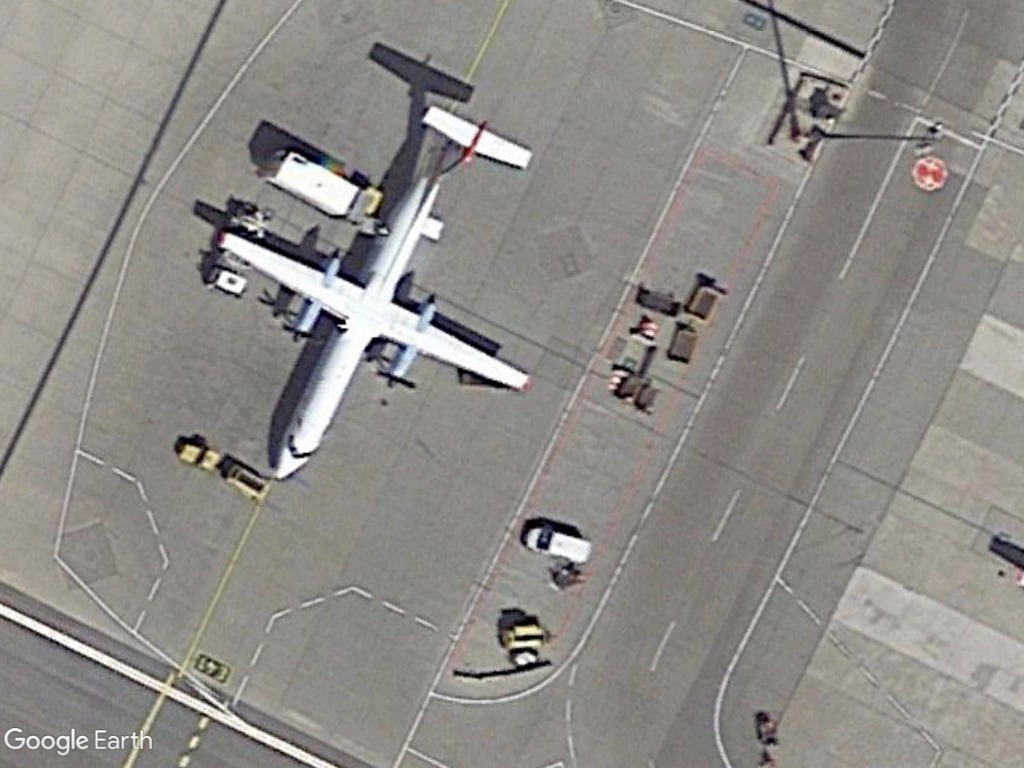propeller: (207, 101, 539, 489)
van: (519, 521, 597, 567)
